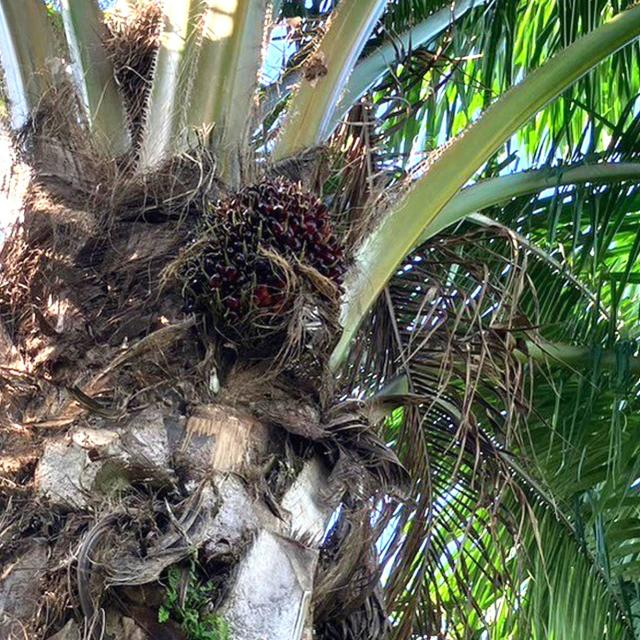ripe: (172, 164, 356, 362)
